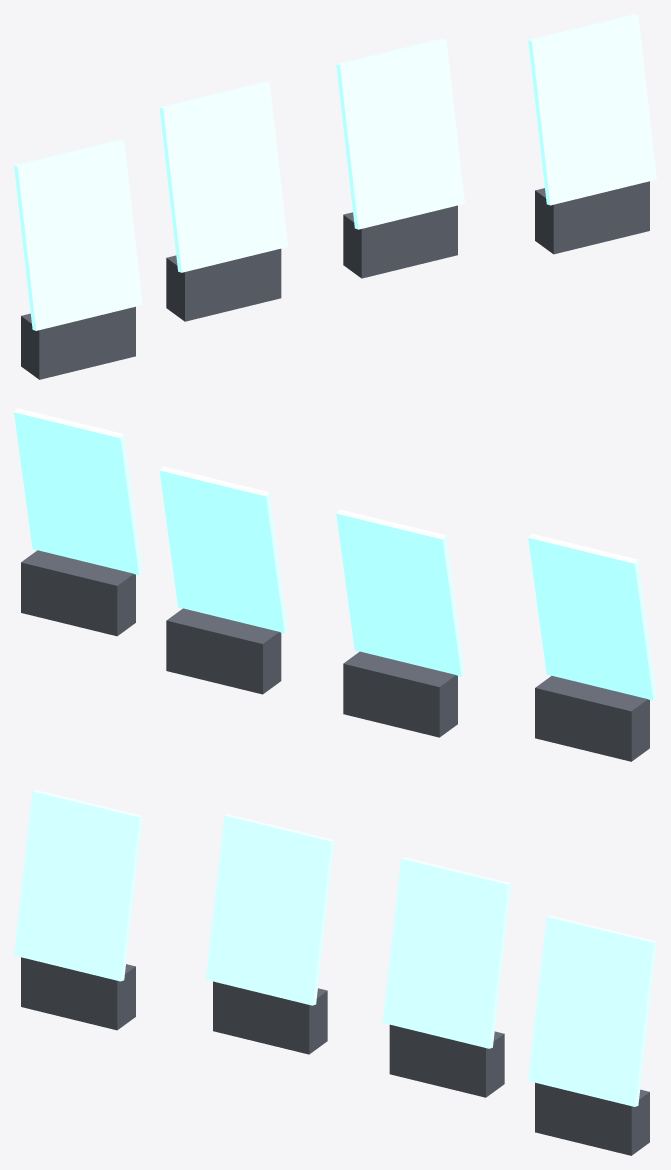
File: project-displays.glb
3 views of the same model, one above another, from view 1: azimuth 30°, elevation 25°; view 2: azimuth 150°, elevation 25°; view 3: azimuth 330°, elevation 25° (orthographic).
Parts seen in each view (by area): view 1: Display_AI_Bezel, Display_RecipeHub_Bezel, Display_Spotify_Bezel, Display_Airbnb_Bezel, Display_Spotify_Plinth, Display_Airbnb_Plinth, Display_RecipeHub_Plinth, Display_AI_Plinth; view 2: Display_AI_Bezel, Display_RecipeHub_Bezel, Display_Airbnb_Bezel, Display_Spotify_Bezel, Display_RecipeHub_Plinth, Display_AI_Plinth, Display_Spotify_Plinth, Display_Airbnb_Plinth; view 3: Display_RecipeHub_Bezel, Display_Spotify_Bezel, Display_AI_Bezel, Display_Airbnb_Bezel, Display_RecipeHub_Plinth, Display_AI_Plinth, Display_Spotify_Plinth, Display_Airbnb_Plinth.
Part boxes in pixels (box(x1,y1,x2,y2)): Display_AI_Bezel: box(528, 14, 656, 205); Display_RecipeHub_Bezel: box(336, 38, 464, 229); Display_Spotify_Bezel: box(159, 81, 288, 272); Display_Airbnb_Bezel: box(14, 139, 142, 330); Display_Spotify_Plinth: box(166, 248, 281, 321); Display_Airbnb_Plinth: box(21, 306, 135, 379); Display_RecipeHub_Plinth: box(343, 205, 457, 278); Display_AI_Plinth: box(535, 181, 649, 254); Display_AI_Bezel: box(14, 408, 142, 575); Display_RecipeHub_Bezel: box(159, 466, 288, 633); Display_Airbnb_Bezel: box(528, 533, 656, 700); Display_Spotify_Bezel: box(336, 509, 464, 676); Display_RecipeHub_Plinth: box(166, 608, 281, 694); Display_AI_Plinth: box(21, 550, 135, 636); Display_Spotify_Plinth: box(343, 651, 457, 737); Display_Airbnb_Plinth: box(535, 676, 649, 761); Display_RecipeHub_Bezel: box(382, 857, 511, 1048); Display_Spotify_Bezel: box(206, 814, 334, 1005); Display_AI_Bezel: box(528, 915, 656, 1106); Display_Airbnb_Bezel: box(14, 790, 142, 981); Display_RecipeHub_Plinth: box(389, 1024, 504, 1097); Display_AI_Plinth: box(535, 1082, 649, 1155); Display_Spotify_Plinth: box(213, 981, 327, 1054); Display_Airbnb_Plinth: box(21, 957, 135, 1030).
Bounding box in the file's own units: 7.73 × 2.4 × 0.9803.
